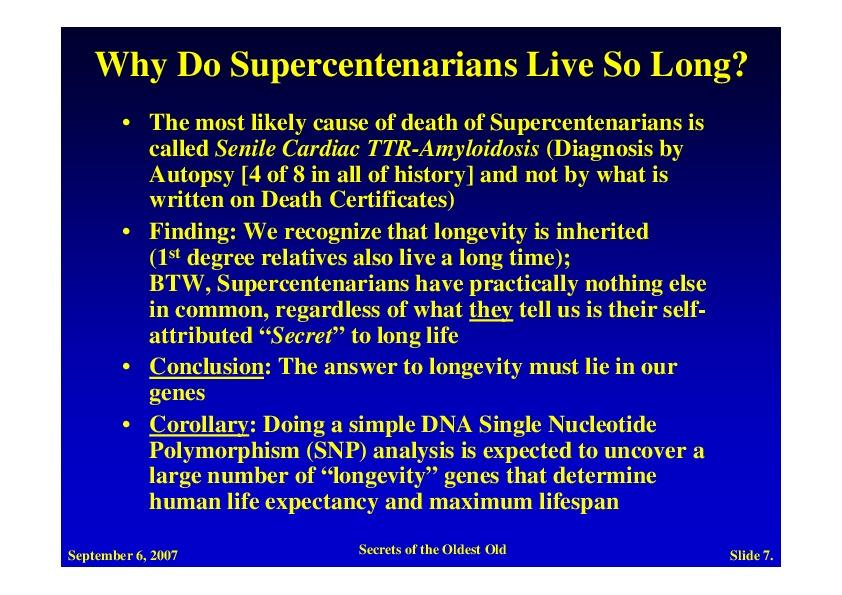paragraph: (137, 101, 732, 528)
subtitle: (63, 533, 780, 568)
title: (89, 38, 751, 85)
